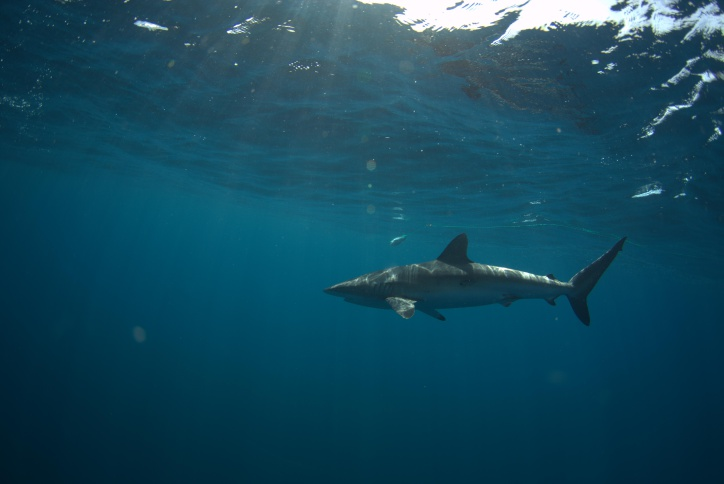Sedoso: (316, 231, 634, 346)
